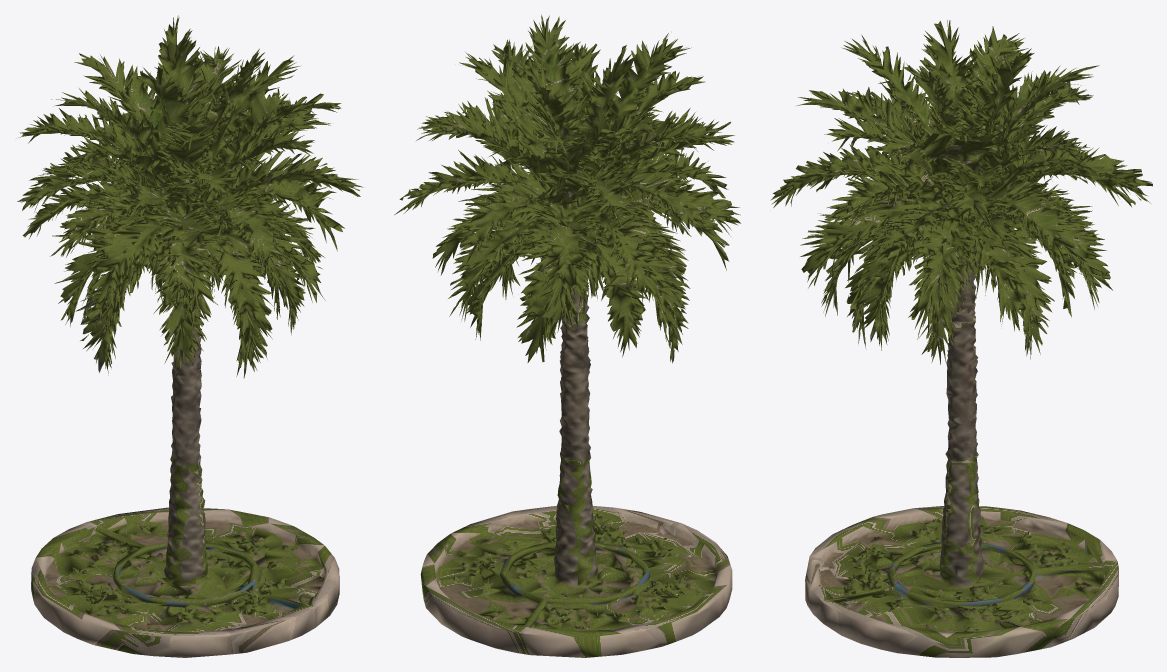
The model's file is palmbase.glb.
3 views of the same model, side by side, from view 1: azimuth 30°, elevation 25°; view 2: azimuth 150°, elevation 25°; view 3: azimuth 270°, elevation 25° (orthographic).
Size of the model in its own units: 1.07 by 1.9 by 1.18.
Materials: 1 (1 with a texture image).
